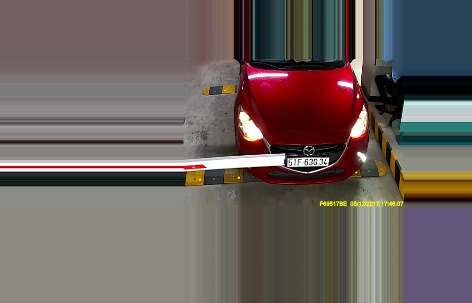plate: (281, 153, 330, 168)
